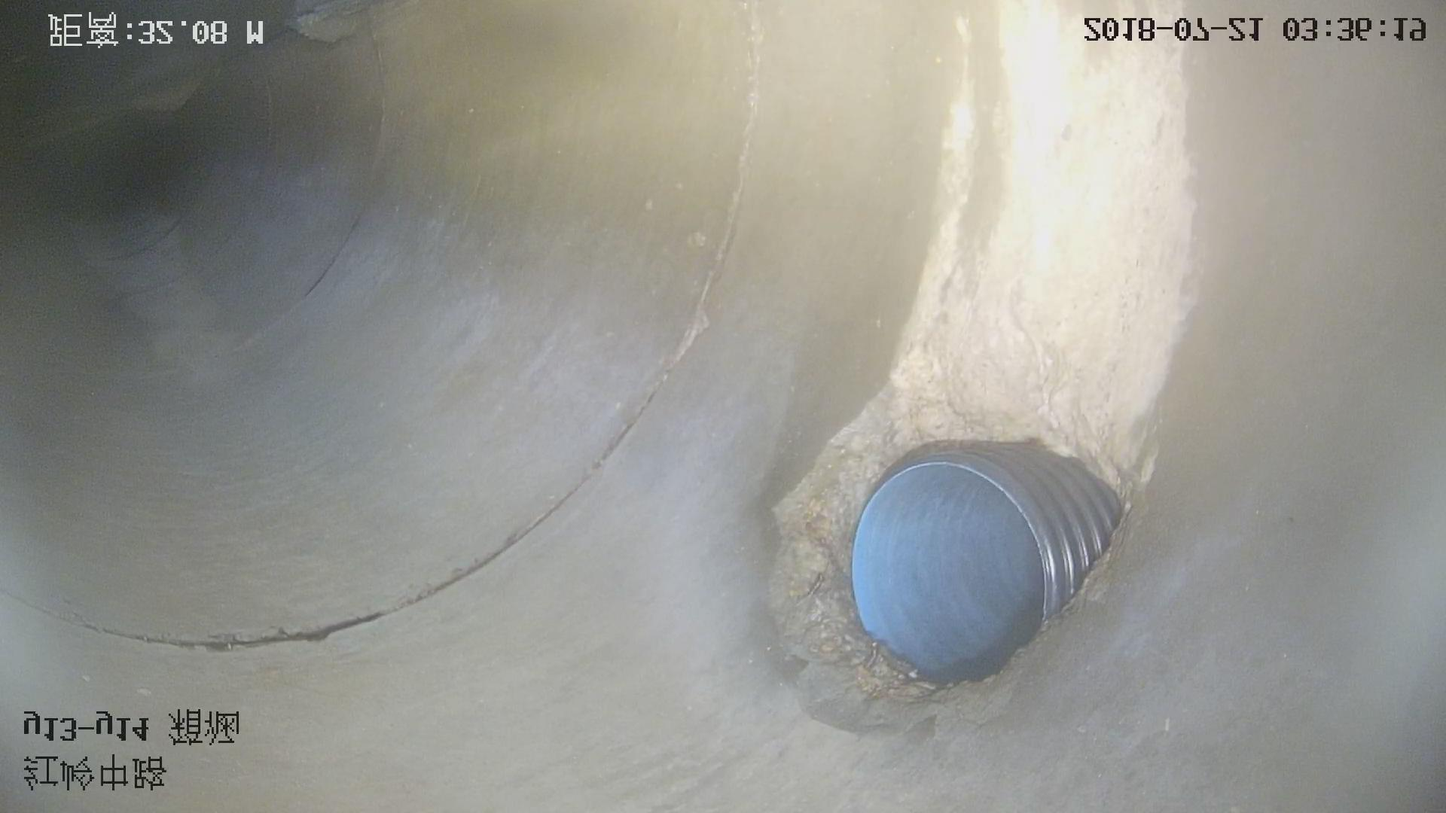ZGAJ: (850, 443, 1124, 687)
